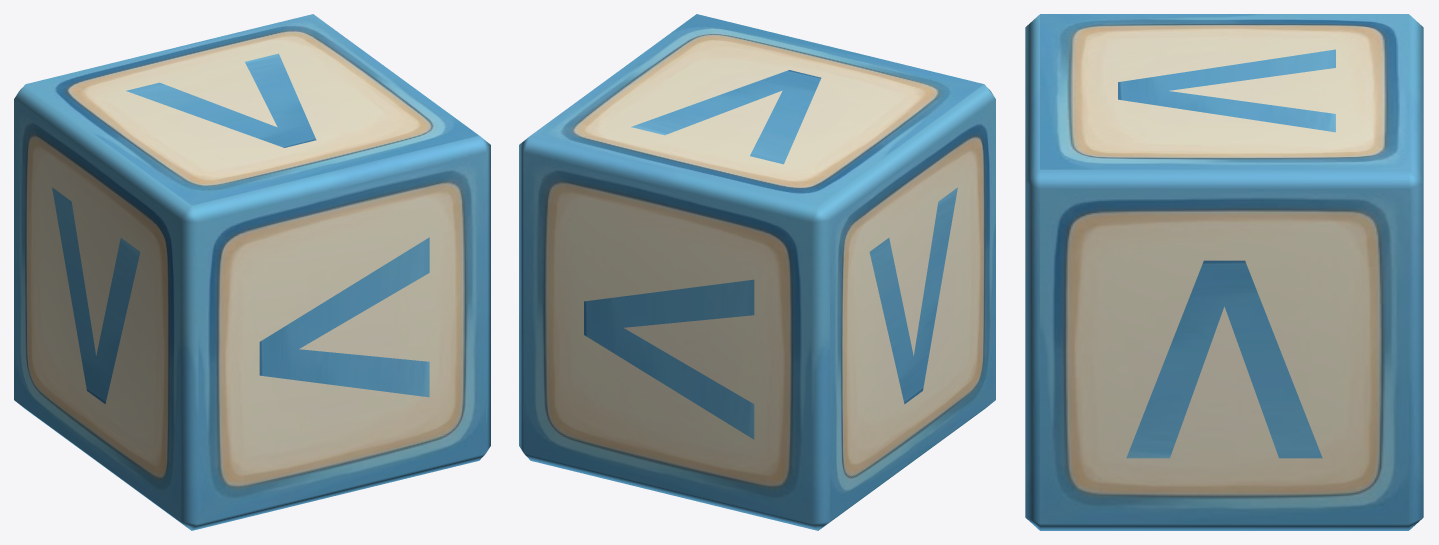
Rendered from CubeV.glb.
3 views of the same model, side by side, from view 1: azimuth 30°, elevation 25°; view 2: azimuth 150°, elevation 25°; view 3: azimuth 270°, elevation 25° (orthographic). The views are drawn at different scales.
Parts seen in each view (by area): view 1: CubeV; view 2: CubeV; view 3: CubeV.
Boxes of the visible parts, x1,y1,x2,y2 form: CubeV: (14,14,490,530); CubeV: (519,14,995,530); CubeV: (1025,14,1423,530).
Size of what is drawn, in the model's own units: 0.513 by 0.513 by 0.513.
1 material, 1 textured.
